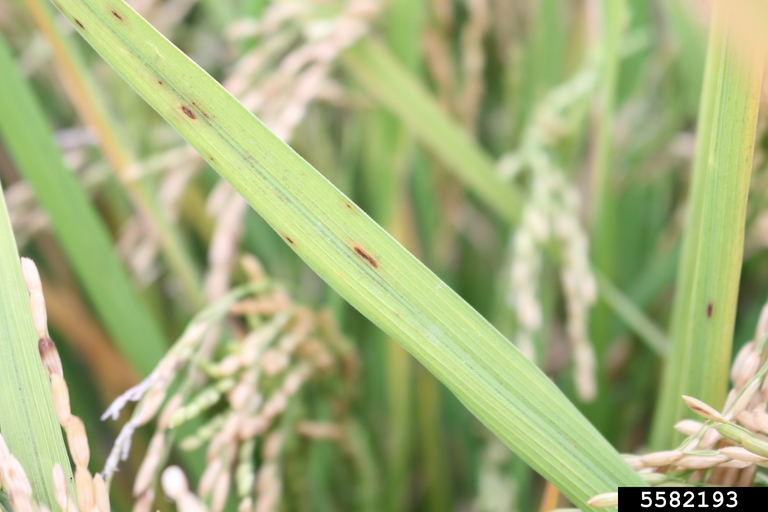Bercak Coklat: (168, 91, 205, 125), (695, 295, 729, 329), (351, 234, 380, 271), (66, 12, 91, 33), (101, 7, 128, 23)
